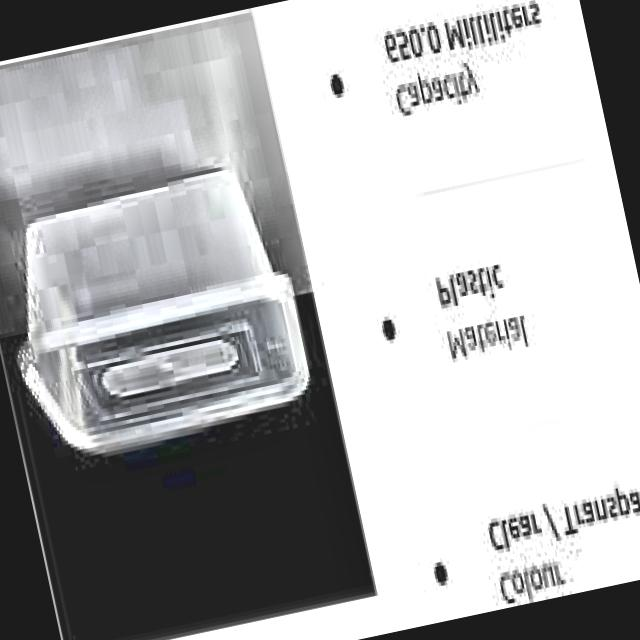plastic container: (17, 170, 309, 454)
